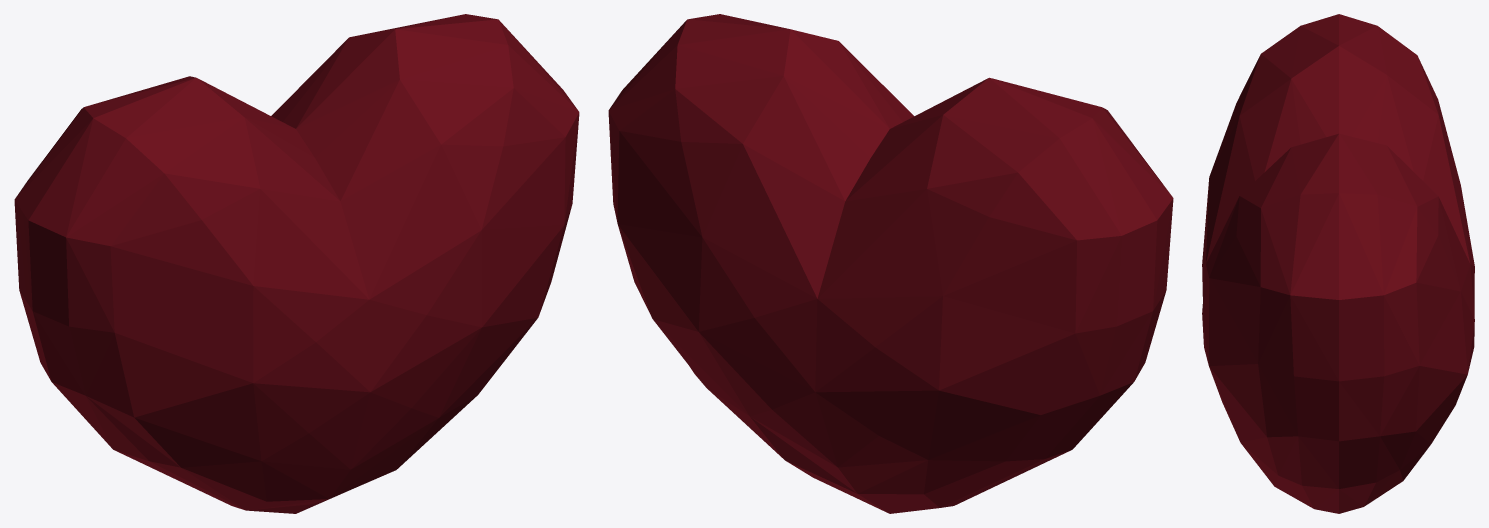
Rendered from Heart.fbx.
3 renders of one model, left to right at view 1: azimuth 30°, elevation 25°; view 2: azimuth 150°, elevation 25°; view 3: azimuth 270°, elevation 25°, orthographic. The views are drawn at different scales.
Visible parts, largest first — view 1: Cube.001; view 2: Cube.001; view 3: Cube.001.
Boxes of the visible parts, x1,y1,x2,y2 form: Cube.001: (14,14,579,513); Cube.001: (608,14,1173,513); Cube.001: (1202,14,1474,513).
Bounding box in the file's own units: 305 × 149 × 251.
